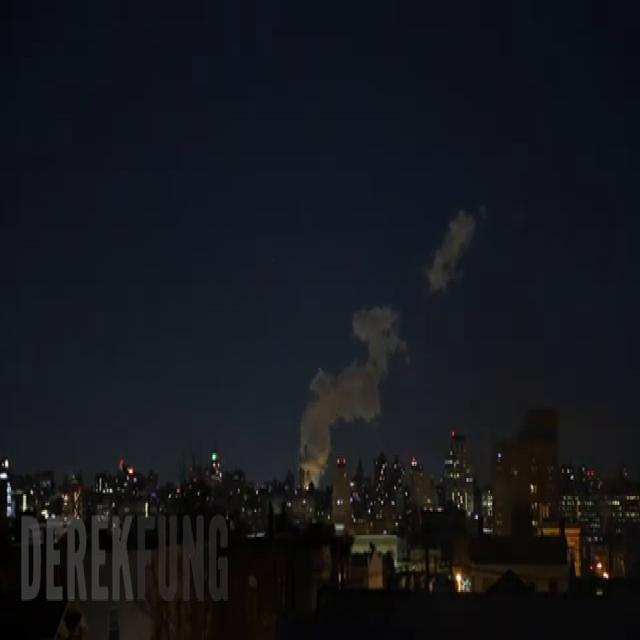smoke: (299, 308, 405, 482)
